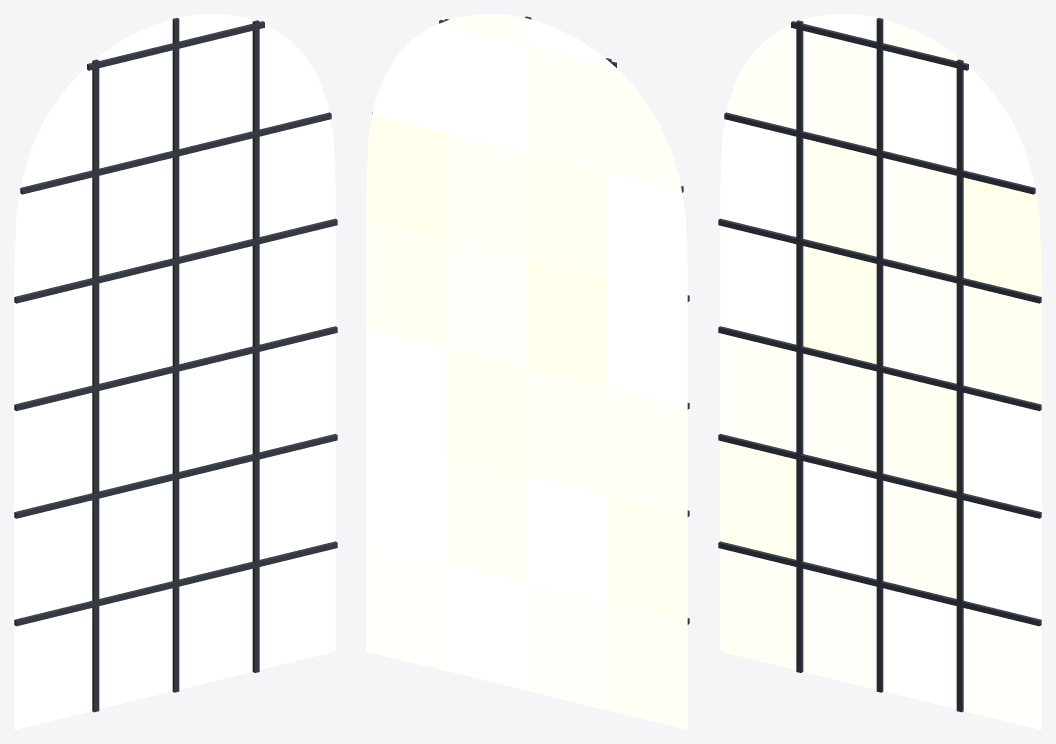
File: leaded_light.glb
3 renders of one model, left to right at view 1: azimuth 30°, elevation 25°; view 2: azimuth 150°, elevation 25°; view 3: azimuth 330°, elevation 25°, orthographic.
Visible parts, largest first — view 1: leaded_light; view 2: leaded_light; view 3: leaded_light.
Boxes of the visible parts, x1,y1,x2,y2 form: leaded_light: [14, 14, 337, 729]; leaded_light: [366, 14, 689, 729]; leaded_light: [718, 14, 1041, 729].
Bounding box in the file's own units: 1 × 2 × 0.01.
